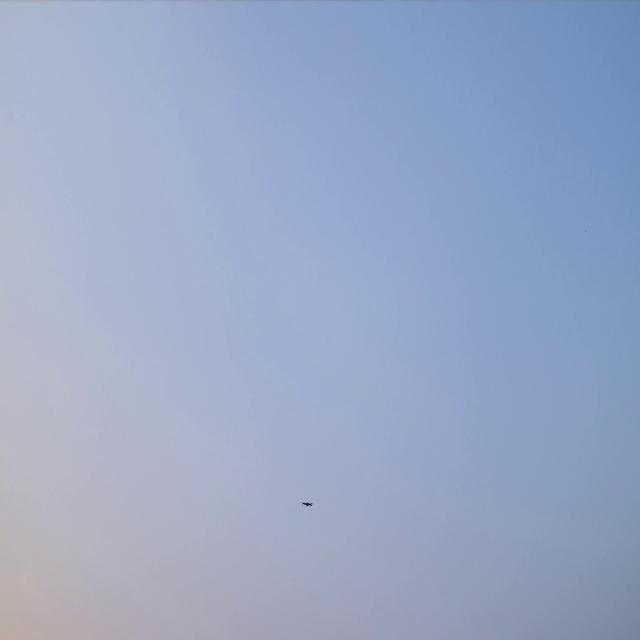UAV: (300, 500, 314, 509)
